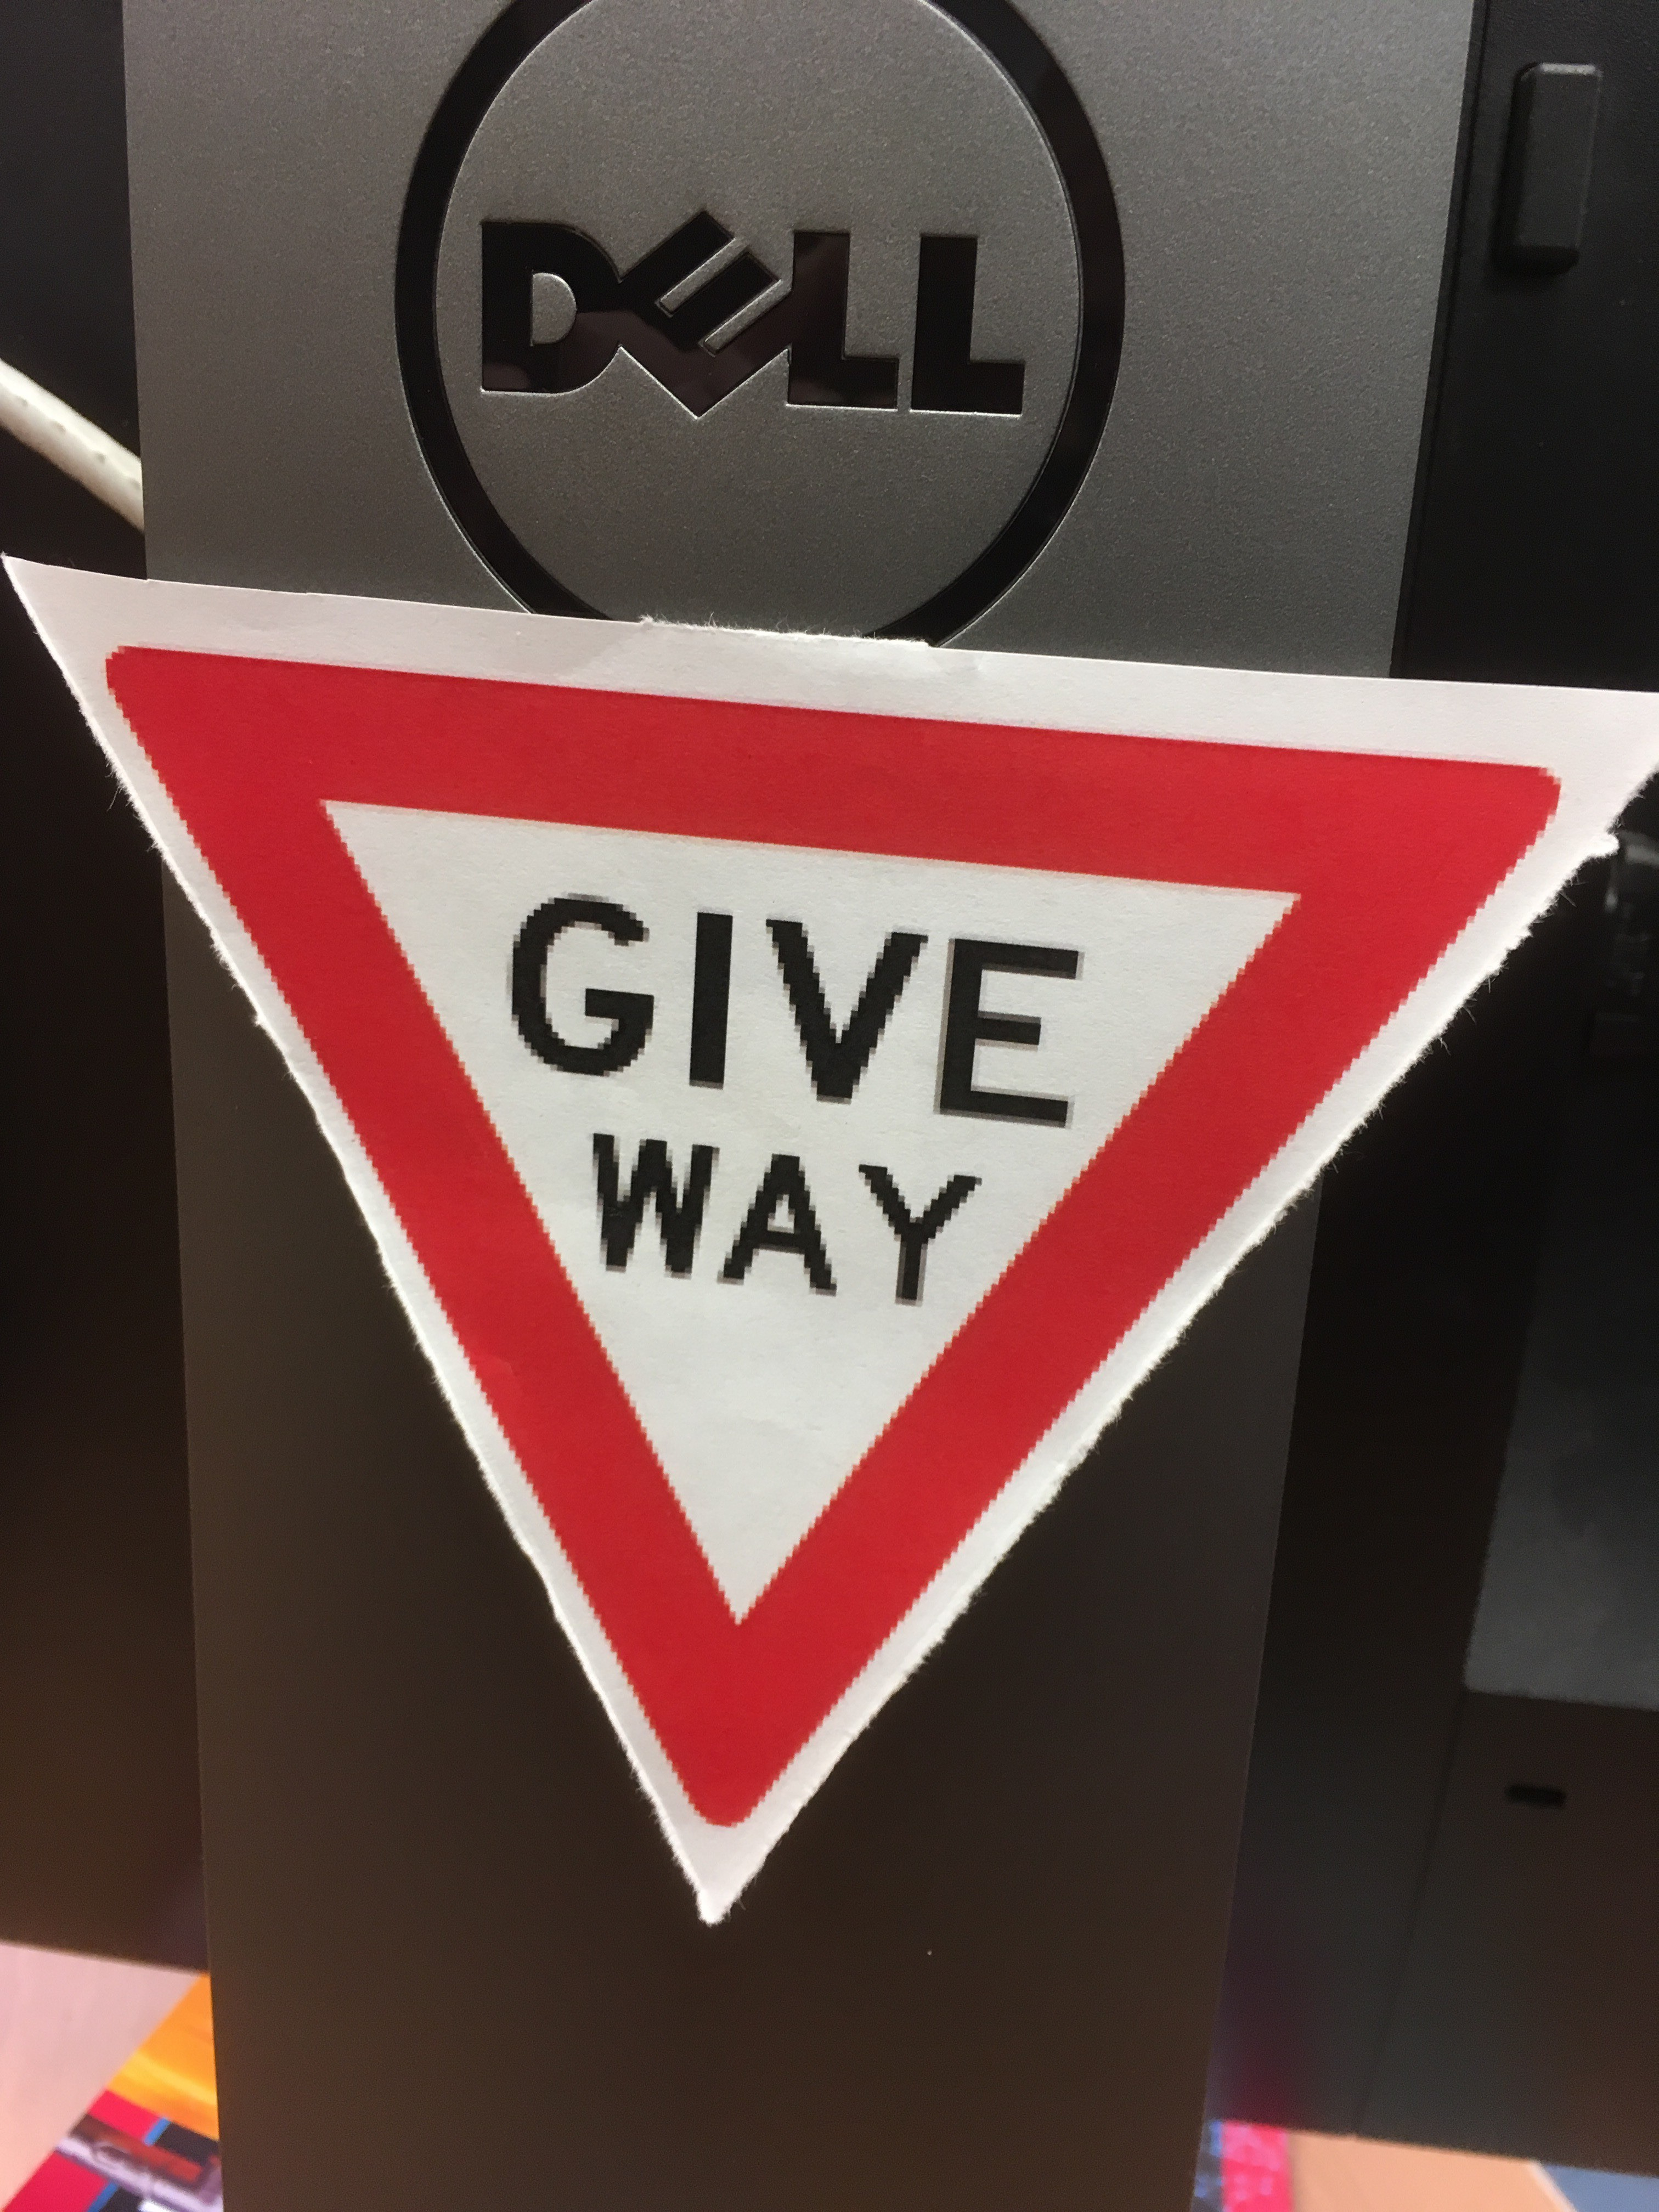giveway: (12, 552, 1657, 1940), (98, 639, 1558, 1843), (809, 596, 1605, 1993), (73, 597, 800, 1979)
